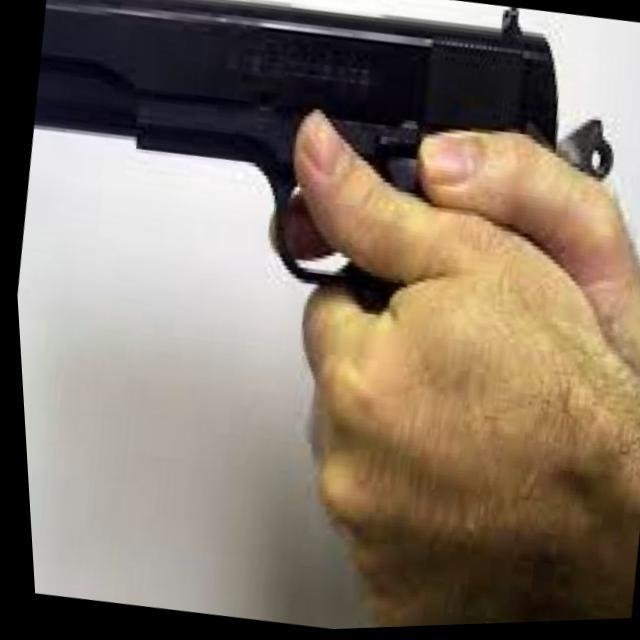weapon: (4, 0, 638, 359)
